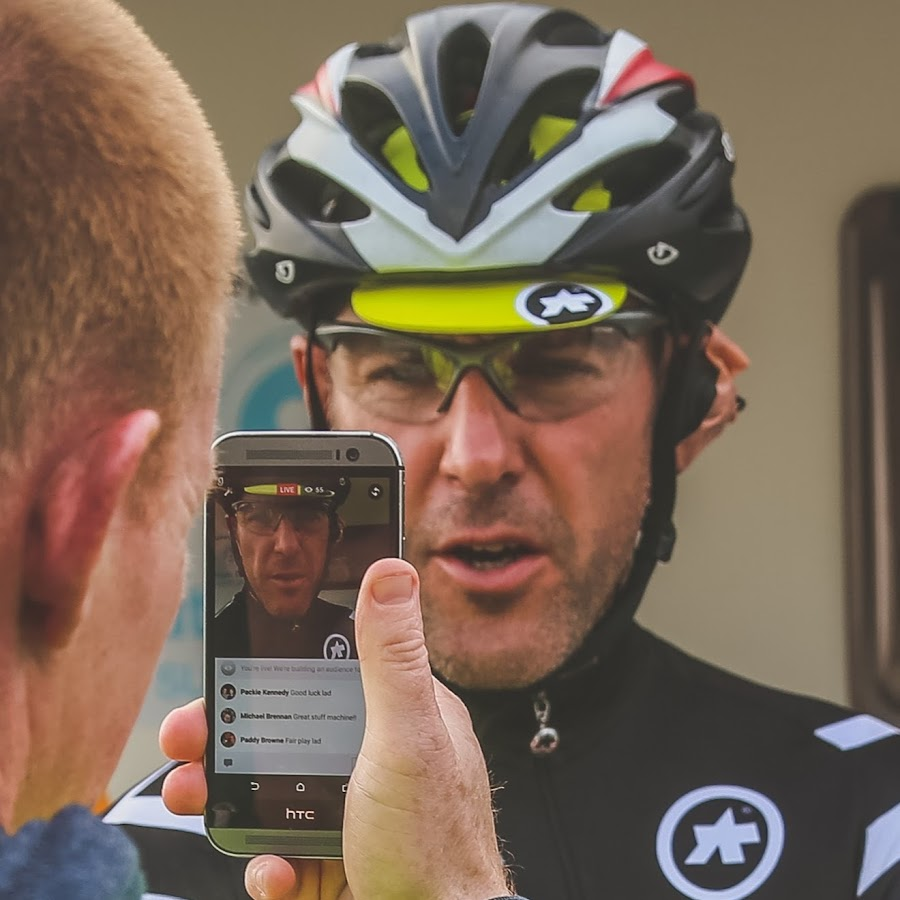helmet: (244, 3, 752, 688)
